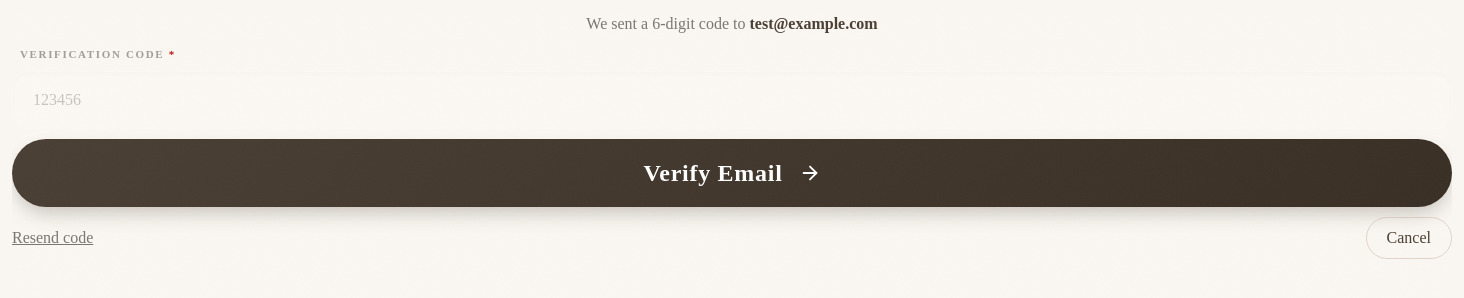
Test case: VerifyEmailForm › shows inline error on invalid or expired OTP, does not redirect
This screenshot has width=1464, height=298.
Type "000000" into the field with placeholder "123456" at (732, 100), box 12,70 -> 1452,128
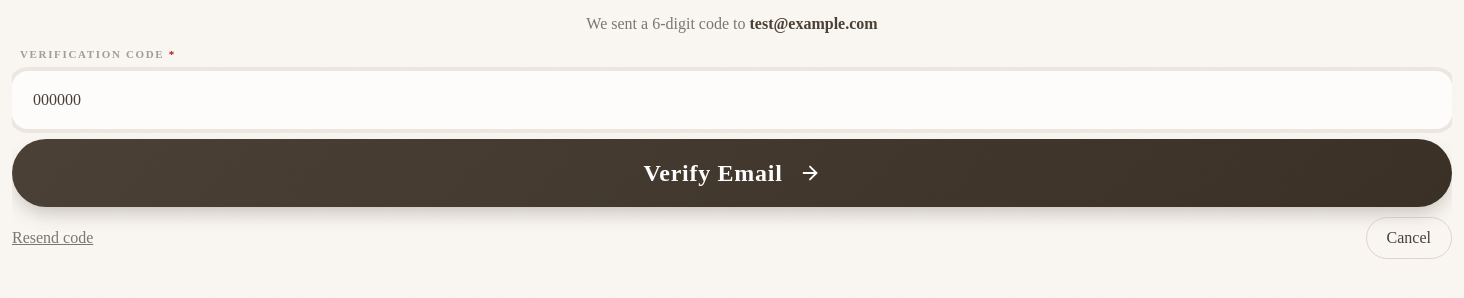
Click the button "Verify Email" at (732, 172), box 12,138 -> 1452,206
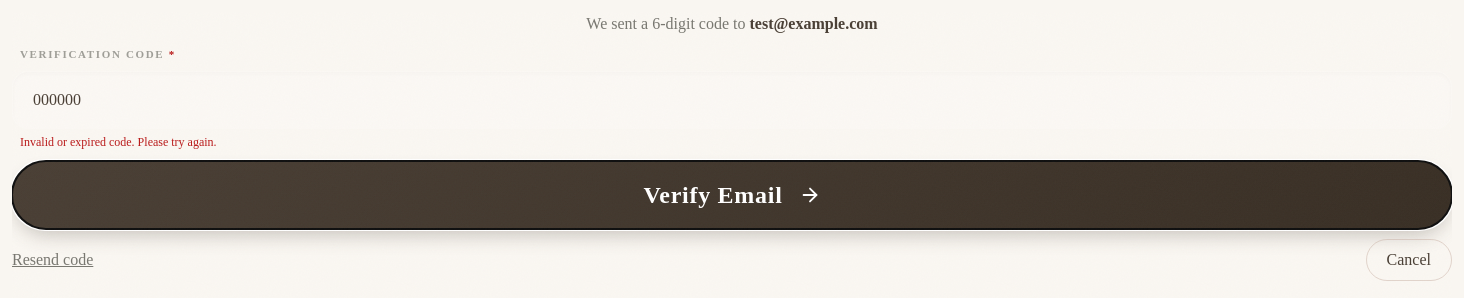
Result: the message reads "Invalid or expired code. Please try again." at 20,134 -> 217,148
